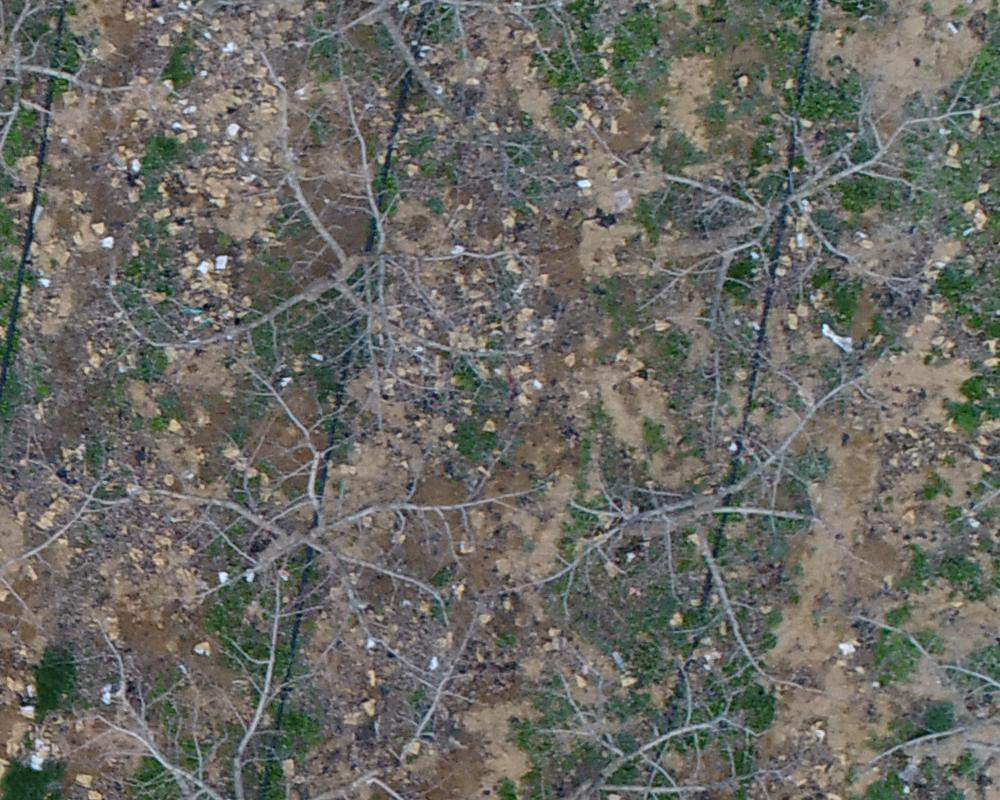apple: (117, 53, 518, 417), (126, 362, 509, 710), (540, 360, 848, 700), (614, 90, 990, 312), (60, 572, 430, 790)
